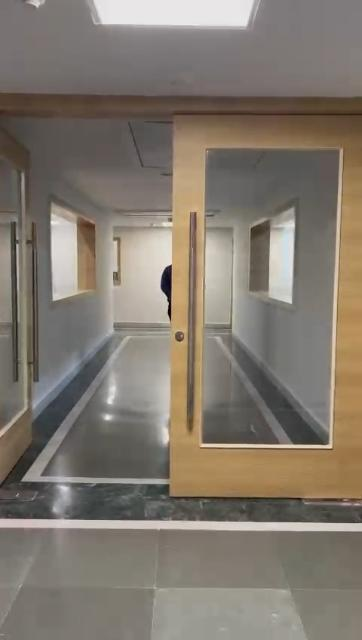door: (165, 120, 362, 506)
floor: (0, 324, 362, 636)
moving-obj: (164, 274, 190, 332)
